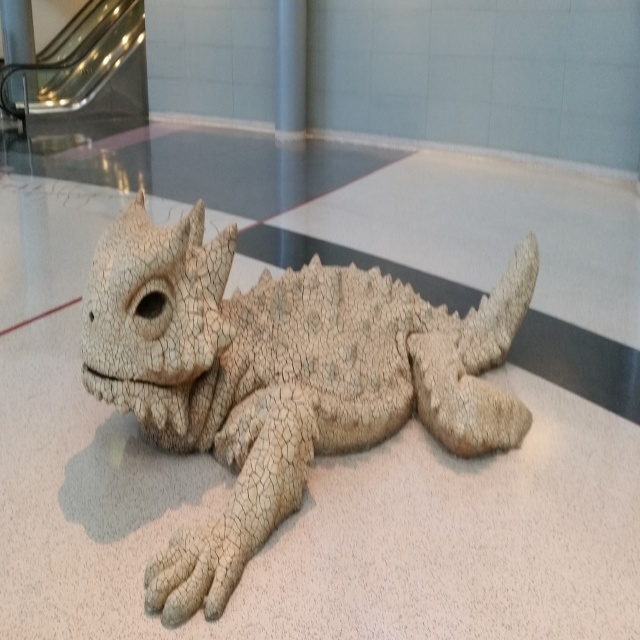Lizard: (87, 176, 559, 604)
